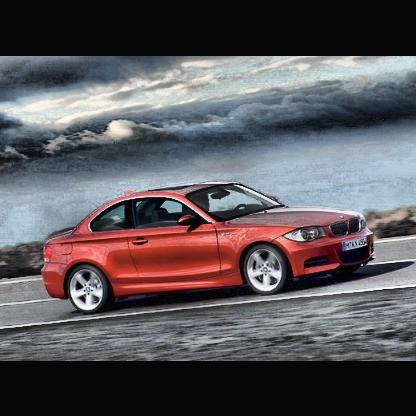BMW 1 Series Coupe 2012: (44, 185, 377, 313)
